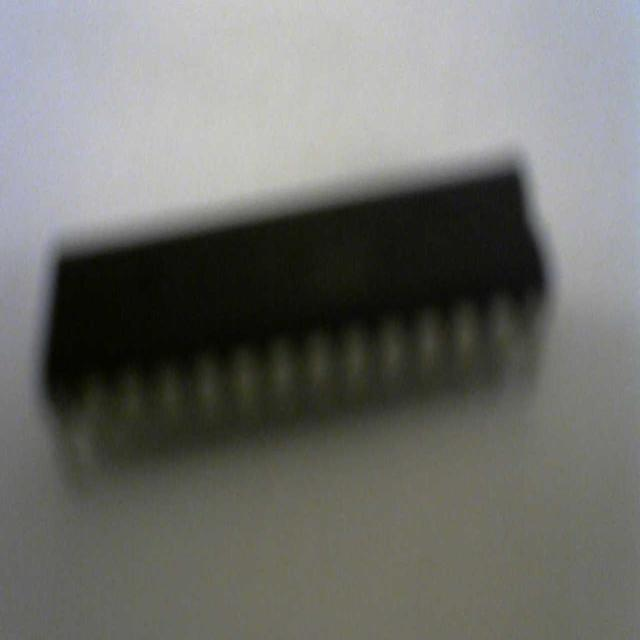atmega: (39, 152, 554, 473)
